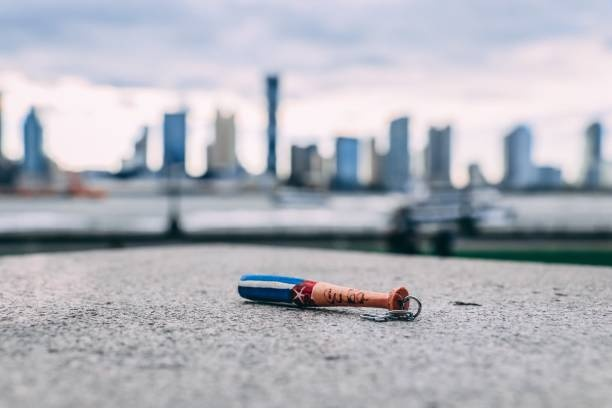bita: (237, 276, 412, 315)
